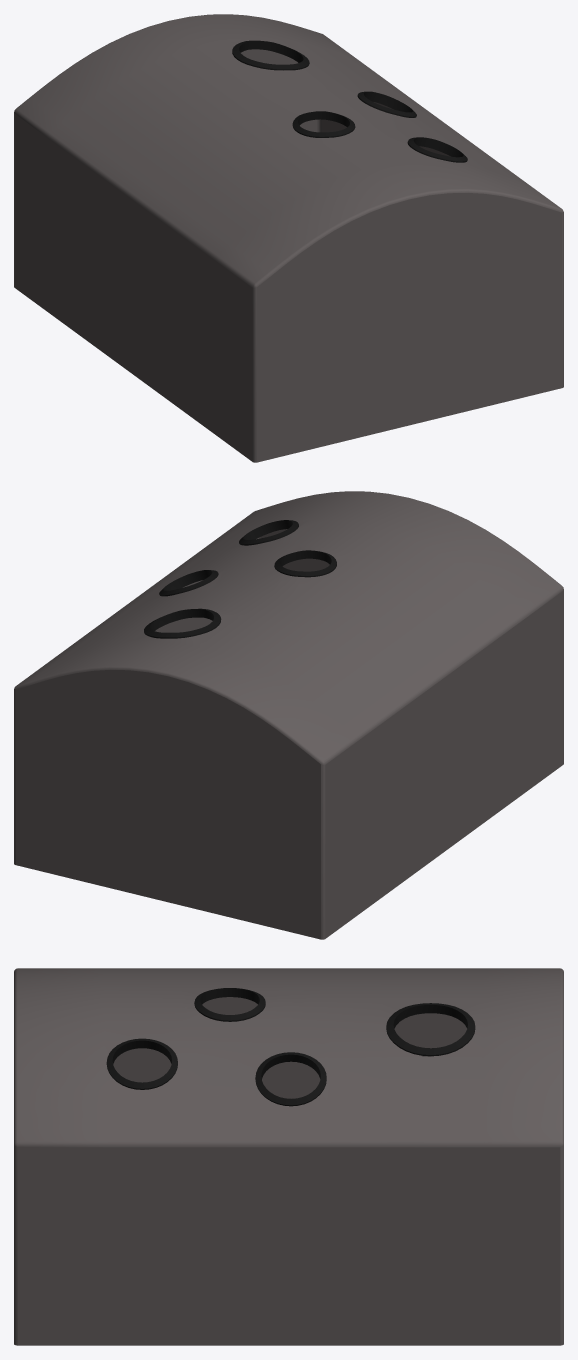
The model's file is ThoracBox.fbx.
The picture shows the model from 3 angles, top to bottom: view 1: azimuth 30°, elevation 25°; view 2: azimuth 150°, elevation 25°; view 3: azimuth 270°, elevation 25°; orthographic projection. The views are drawn at different scales.
Parts seen in each view (by area): view 1: ThoracBox; view 2: ThoracBox; view 3: ThoracBox.
Boxes of the visible parts, <box> form: ThoracBox: <box>14,14,563,462</box>; ThoracBox: <box>14,491,563,939</box>; ThoracBox: <box>14,968,563,1345</box>.
Bounding box in the file's own units: 0.2748 × 0.1963 × 0.3698.
